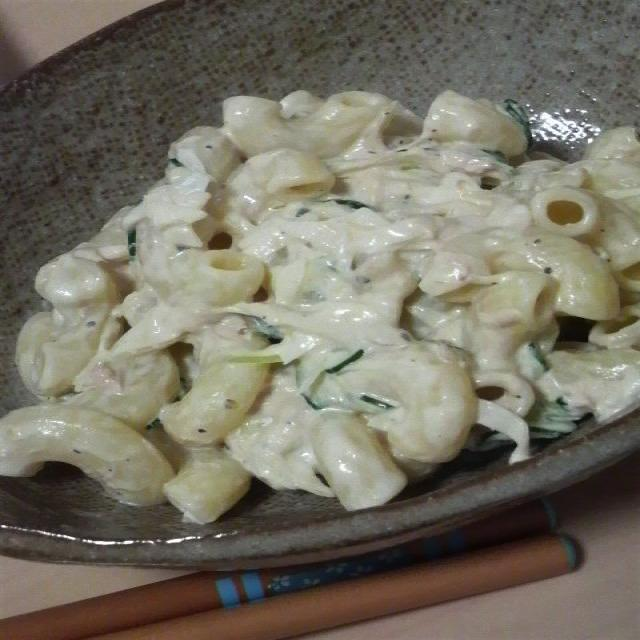蔬菜料理: (0, 0, 640, 570)
